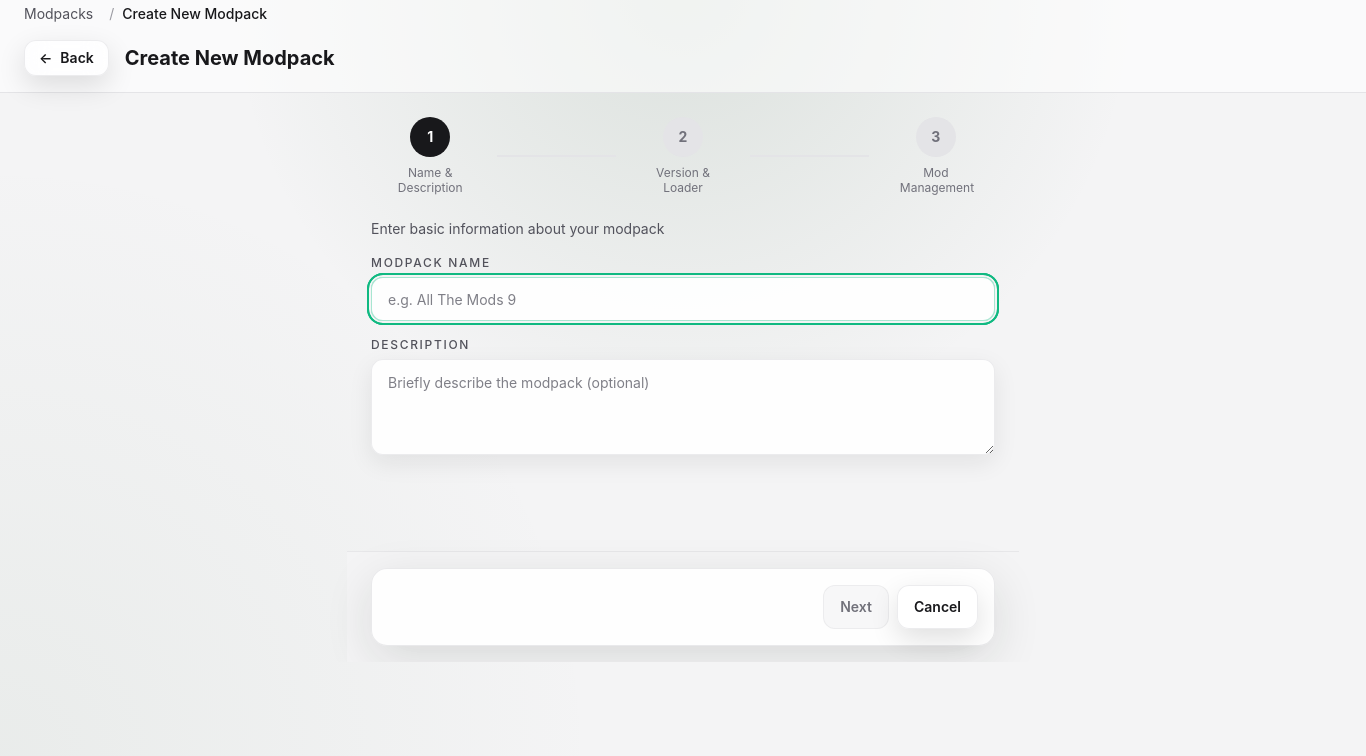
Test: ModpackCreationWizard async state › coalesces duplicate create submissions onto one canonical command
Type "One Pack" into the field labelled "Modpack name" at (683, 299), box [371,277,995,321]
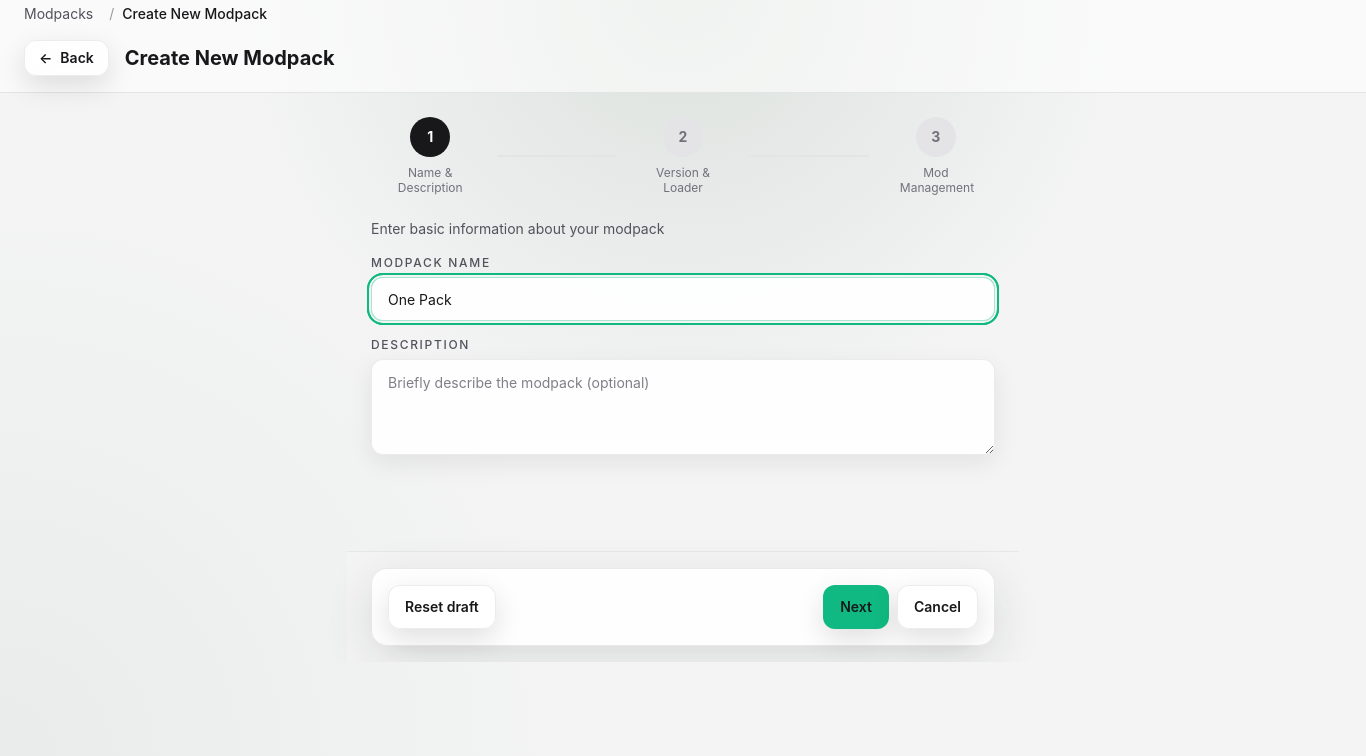
Click the button "Next" at (856, 607), box [823,585,889,629]
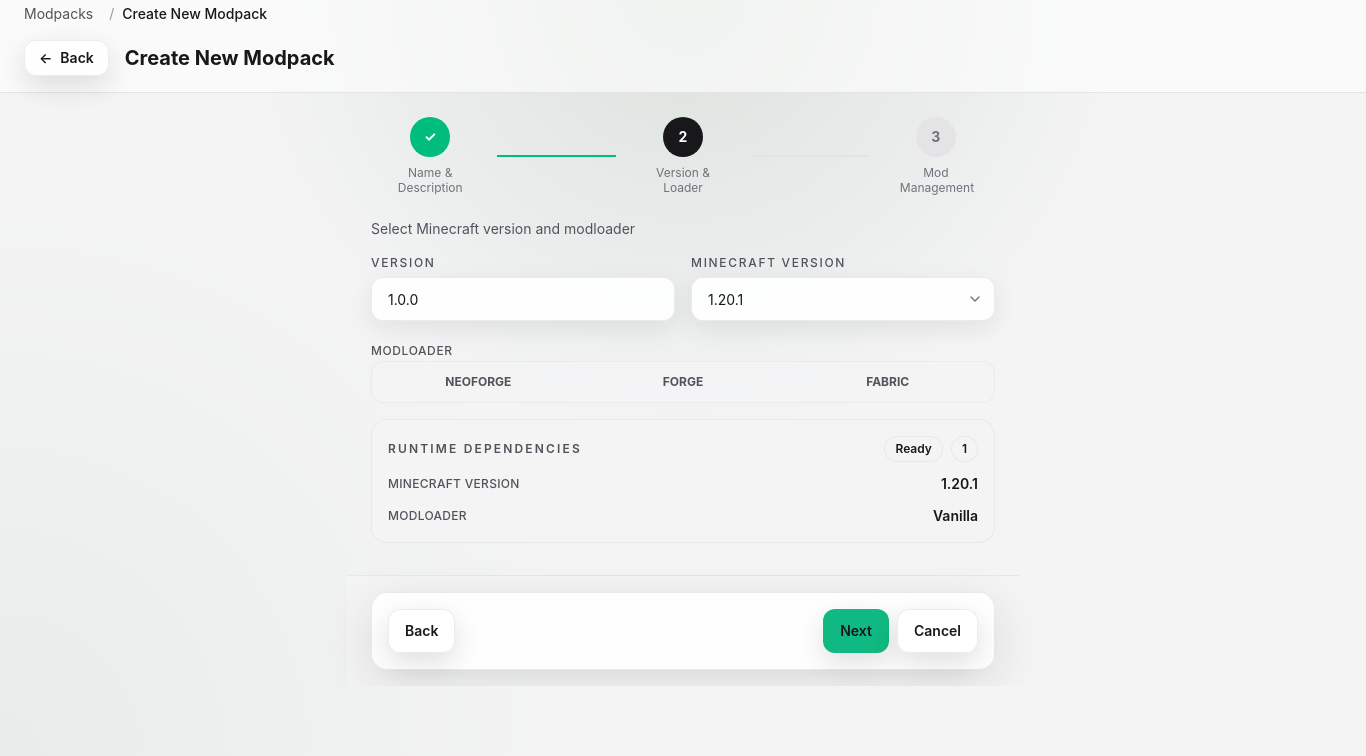
Click the button "Next" at (856, 631), box [823,609,889,653]
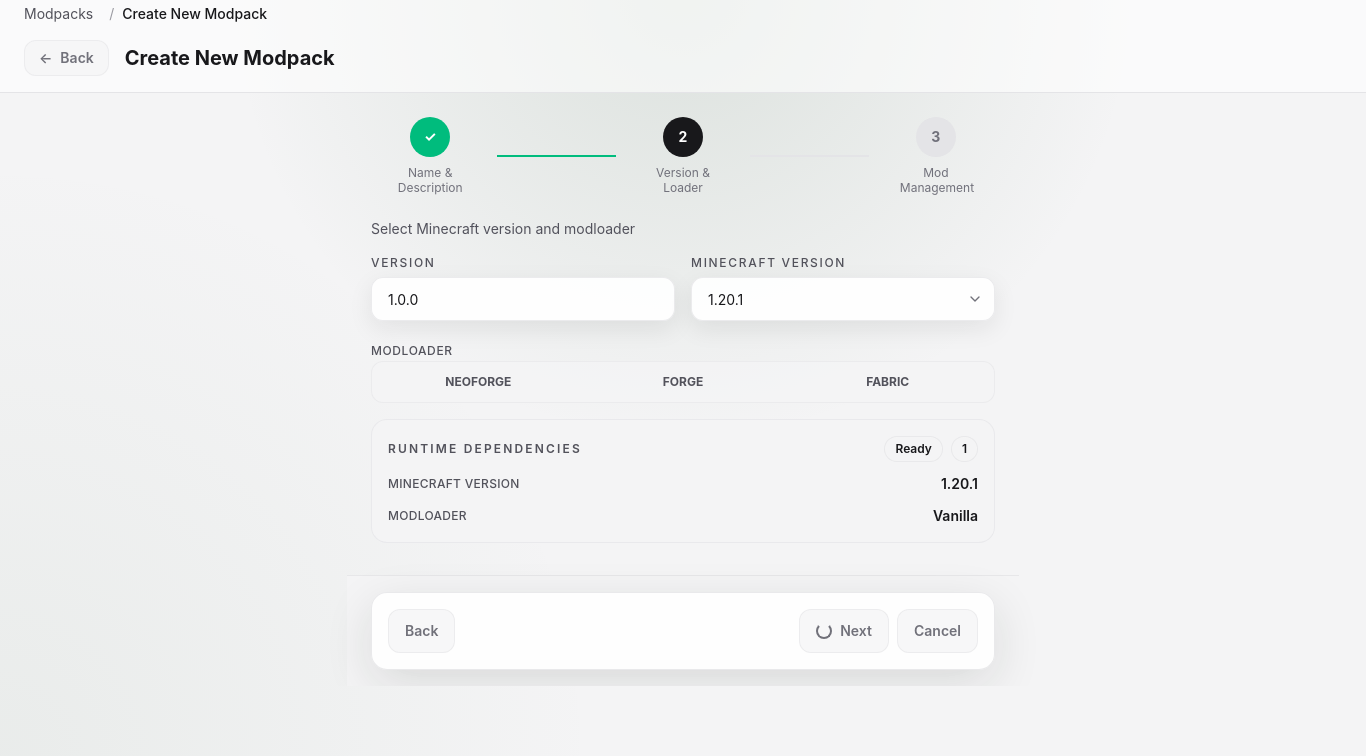
Click the button "Next" at (844, 631), box [799,609,889,653]
(page scrolled)
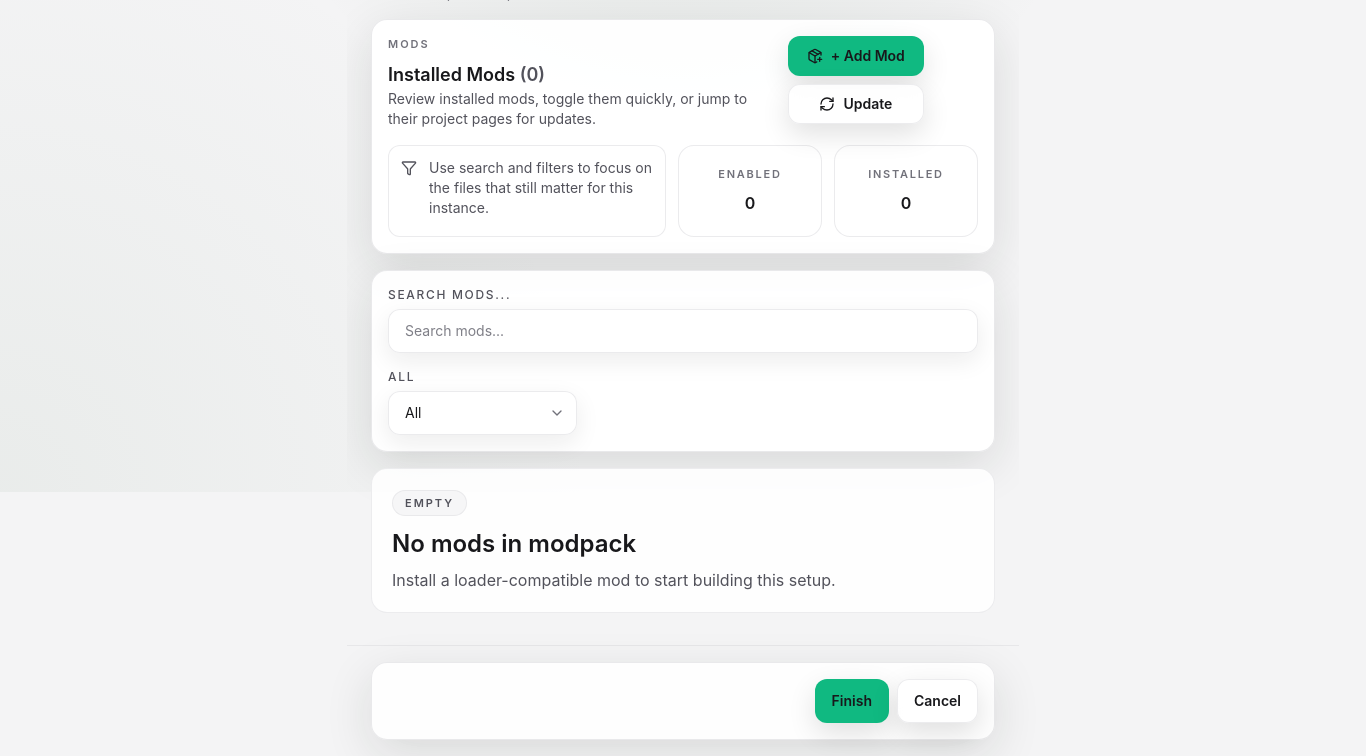
Expected: the button "Finish" is shown, [815,679,889,723]
Expected: the button "Back" is gone
